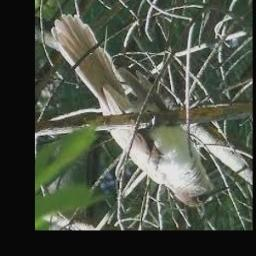Cuckoo: (51, 15, 230, 207)
